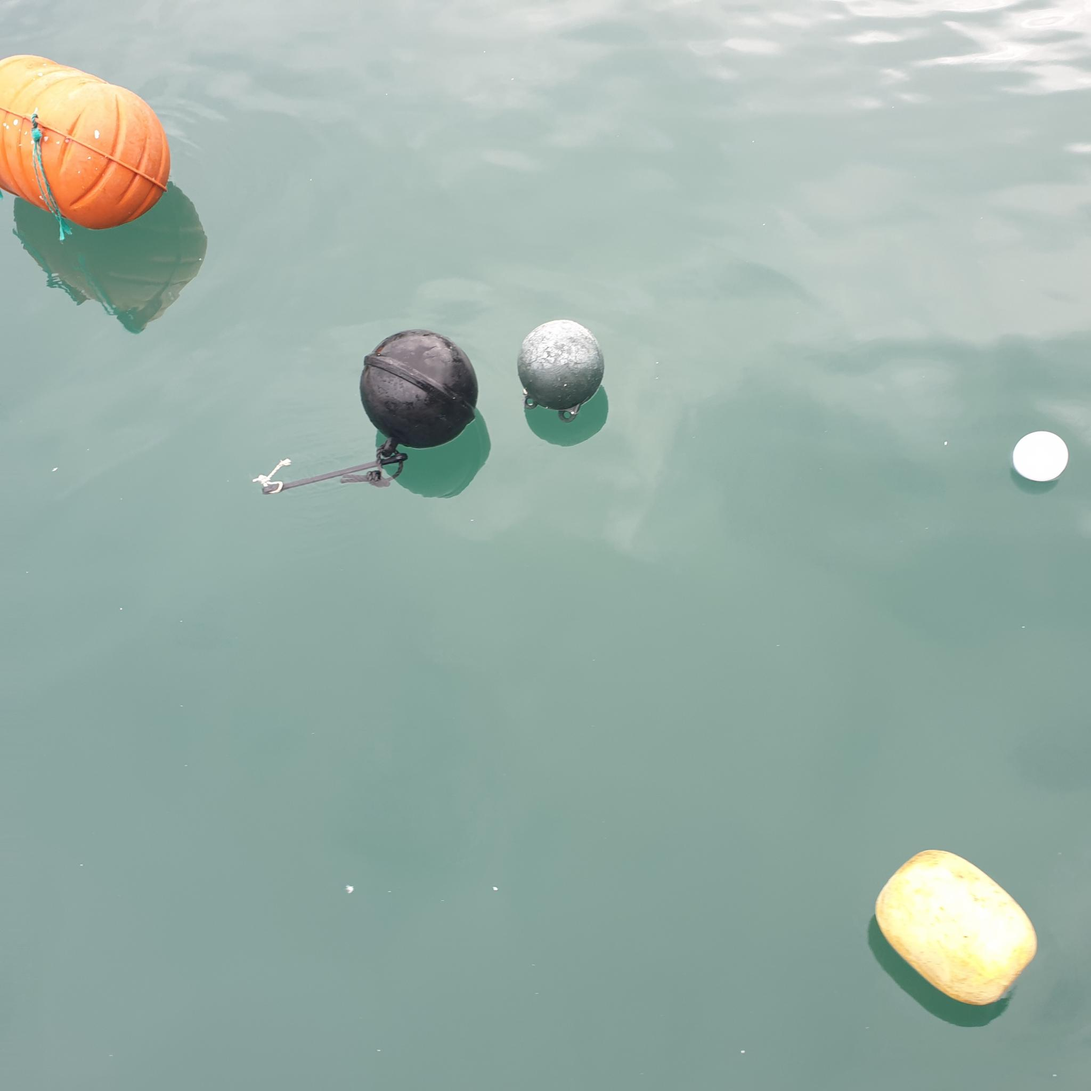sampah_terapung: (1, 54, 170, 230), (875, 850, 1038, 1006), (360, 329, 479, 458), (518, 320, 604, 422), (32, 116, 73, 242), (1013, 432, 1070, 482), (341, 444, 404, 489), (252, 459, 294, 486)
